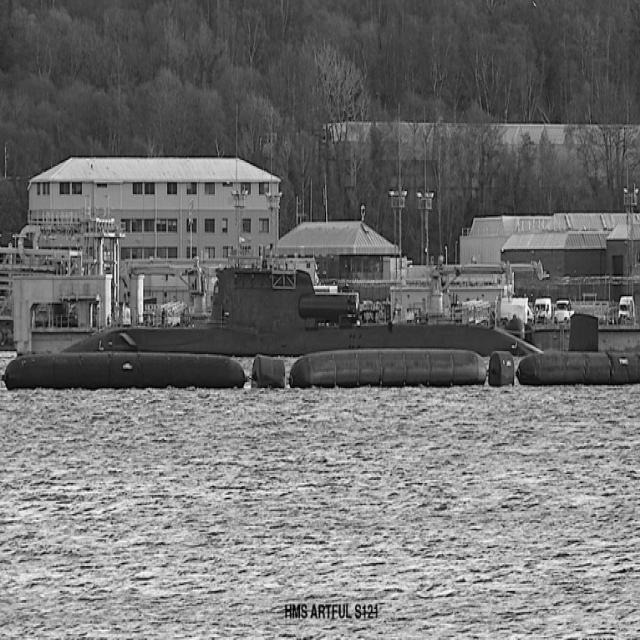submarine: (61, 268, 607, 354)
